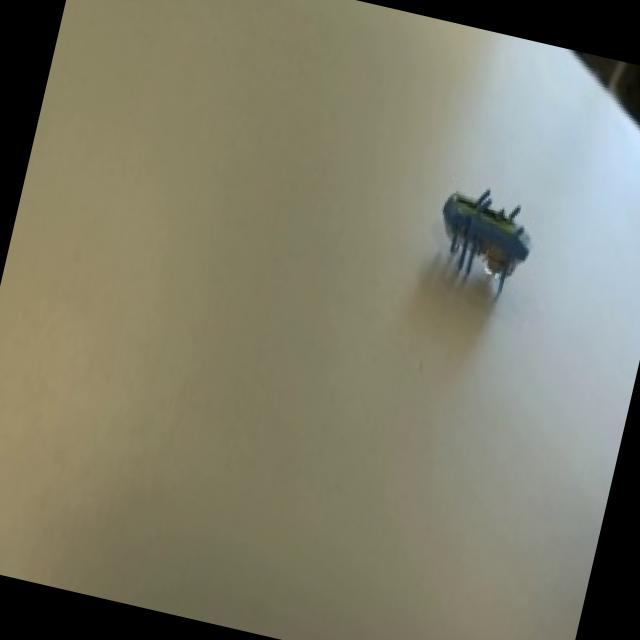3_NanoBug_Celeste: (397, 153, 572, 334)
